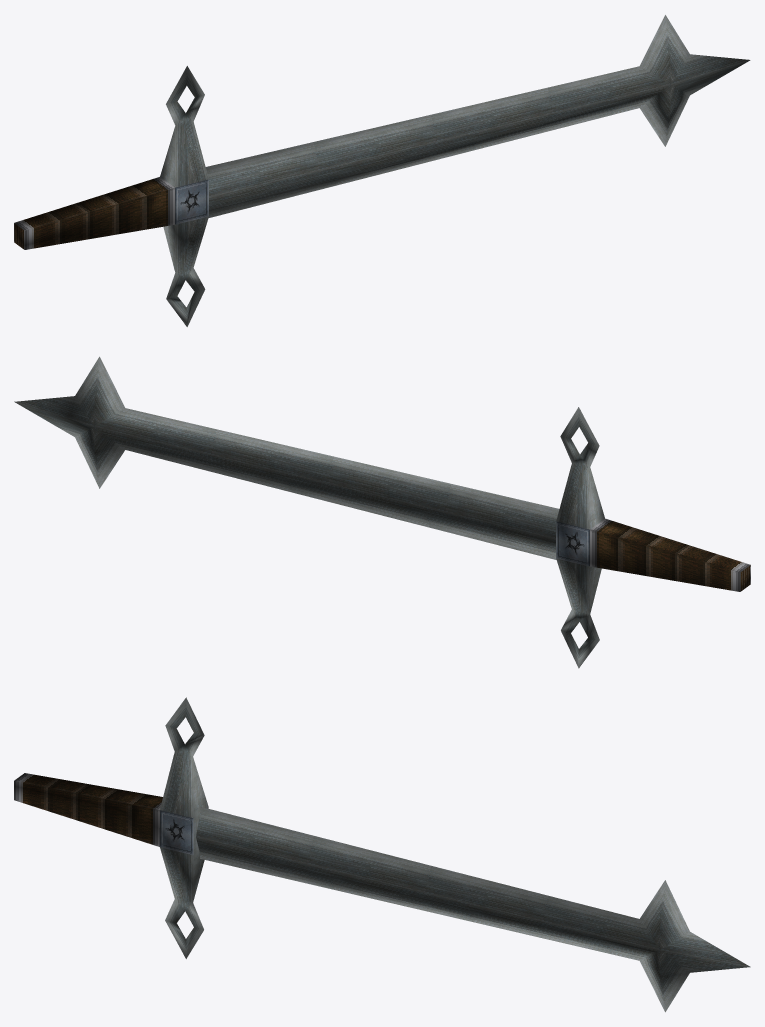
3 views of the same model, one above another, from view 1: azimuth 30°, elevation 25°; view 2: azimuth 150°, elevation 25°; view 3: azimuth 330°, elevation 25° (orthographic).
Parts seen in each view (by area): view 1: it113; view 2: it113; view 3: it113.
Boxes of the visible parts, bbox=[...] form: it113: bbox=[14, 15, 750, 326]; it113: bbox=[14, 356, 750, 668]; it113: bbox=[14, 697, 750, 1012].
Size of the model in its own units: 3.62 by 1.24 by 0.129.
Materials: 3 (3 with a texture image).
